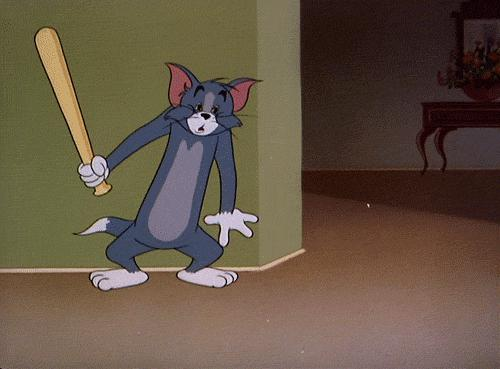tom: (75, 60, 263, 292)
